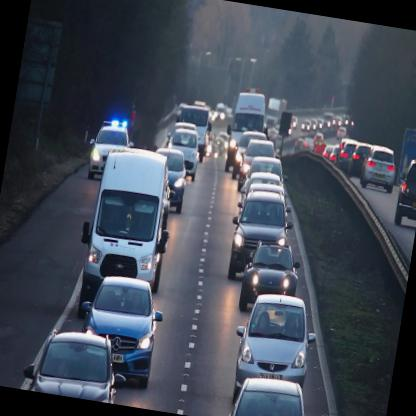car: (225, 288, 321, 413), (70, 270, 166, 387), (19, 321, 132, 404), (224, 186, 298, 286), (237, 238, 302, 320), (214, 370, 326, 415), (84, 122, 136, 184), (146, 147, 189, 213), (160, 126, 202, 184), (236, 136, 276, 191), (230, 128, 267, 184), (357, 145, 398, 190), (393, 156, 415, 228), (346, 142, 371, 182)
truck: (70, 142, 178, 319), (223, 90, 269, 177)
